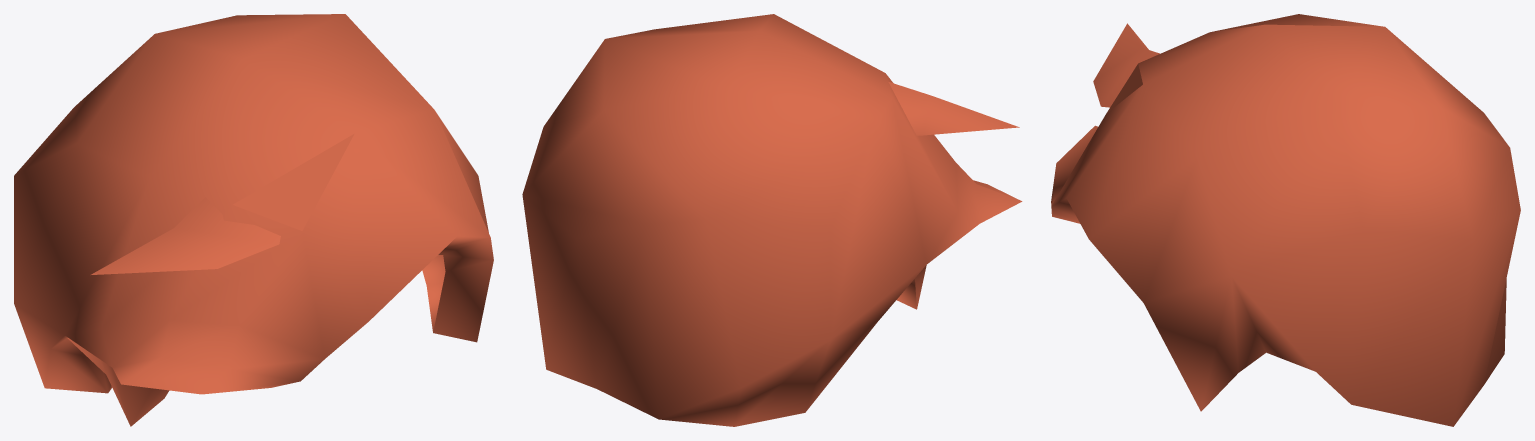
Rendered from HairSpikeyGinger.fbx.
3 renders of one model, left to right at view 1: azimuth 30°, elevation 25°; view 2: azimuth 150°, elevation 25°; view 3: azimuth 270°, elevation 25°, orthographic. The views are drawn at different scales.
Visible parts, largest first — view 1: HairSpikeyGinger; view 2: HairSpikeyGinger; view 3: HairSpikeyGinger.
Boxes of the visible parts, x1,y1,x2,y2 form: HairSpikeyGinger: [14, 14, 493, 426]; HairSpikeyGinger: [522, 14, 1022, 426]; HairSpikeyGinger: [1051, 14, 1520, 426].
Bounding box in the file's own units: 61.63 × 46.05 × 57.58.
